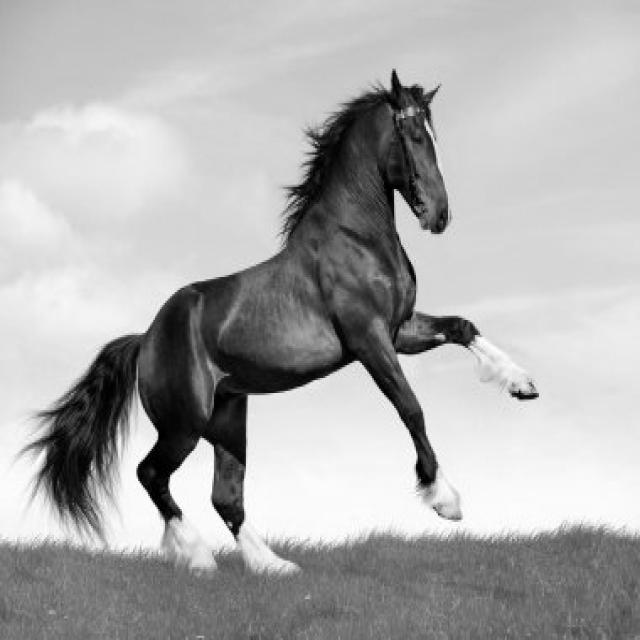Animal: (28, 72, 538, 574)
